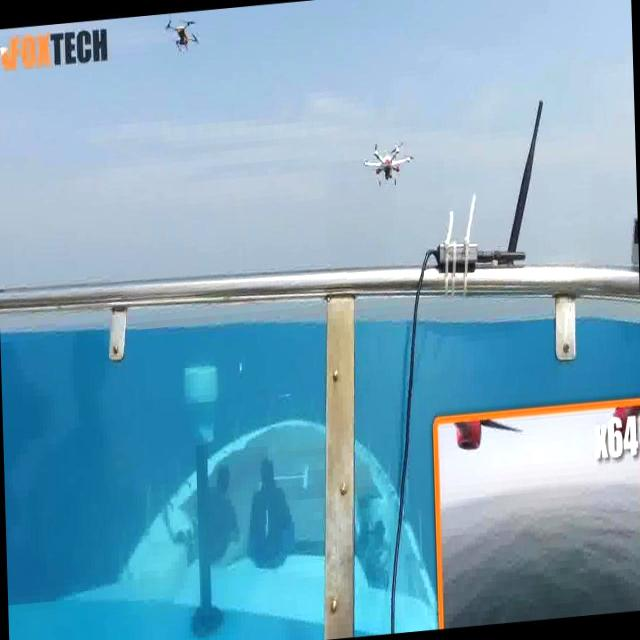drone: (361, 136, 412, 192), (162, 15, 204, 58)
